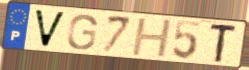5: (170, 19, 205, 61)
7: (103, 14, 134, 56)
G: (66, 14, 99, 51)
H: (130, 17, 174, 58)
T: (208, 24, 239, 64)
V: (32, 8, 68, 50)
